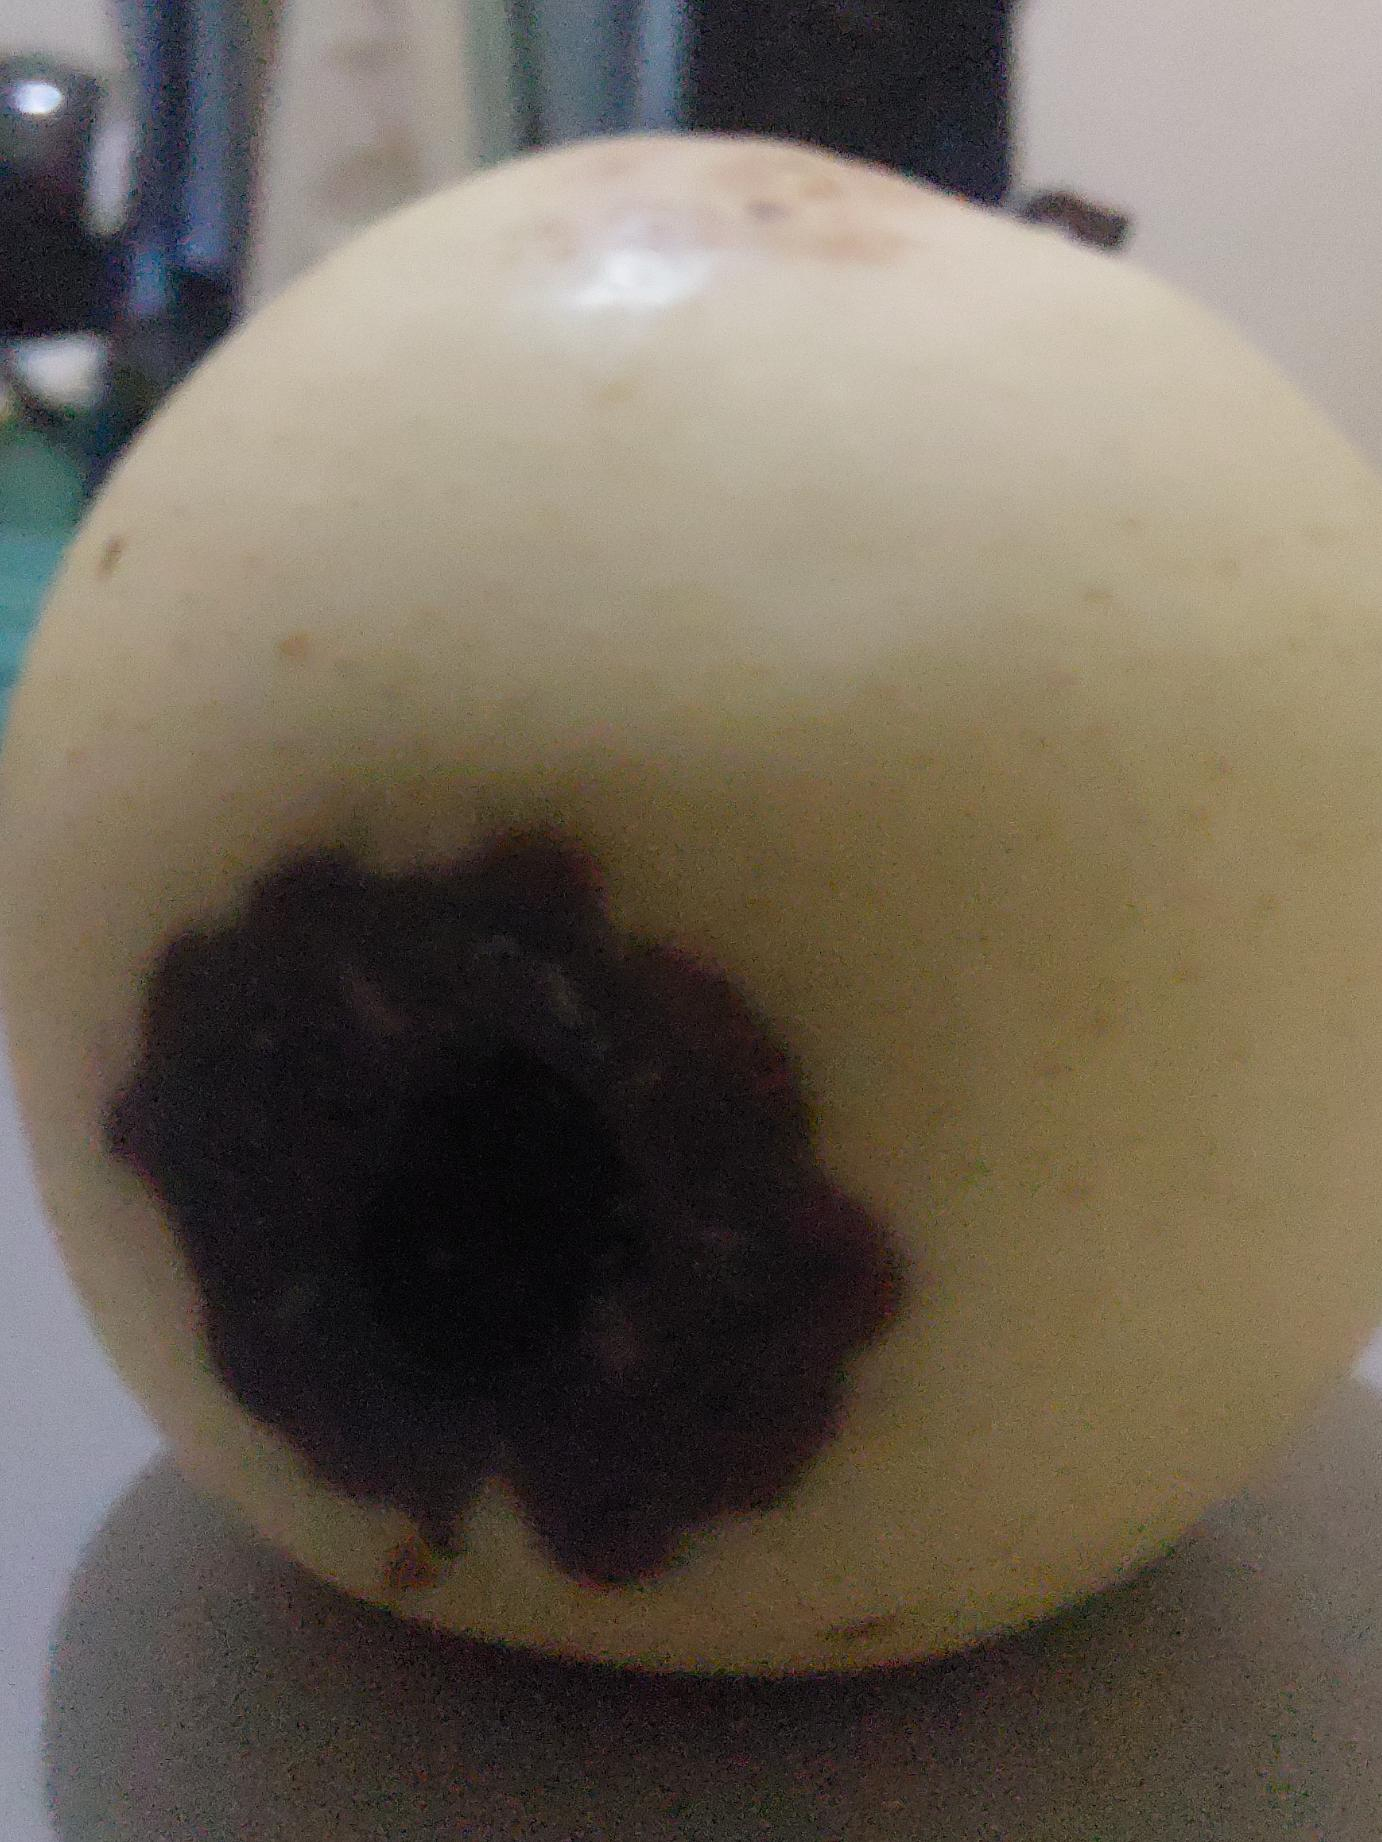Bad Pear: (0, 126, 1382, 1722)
